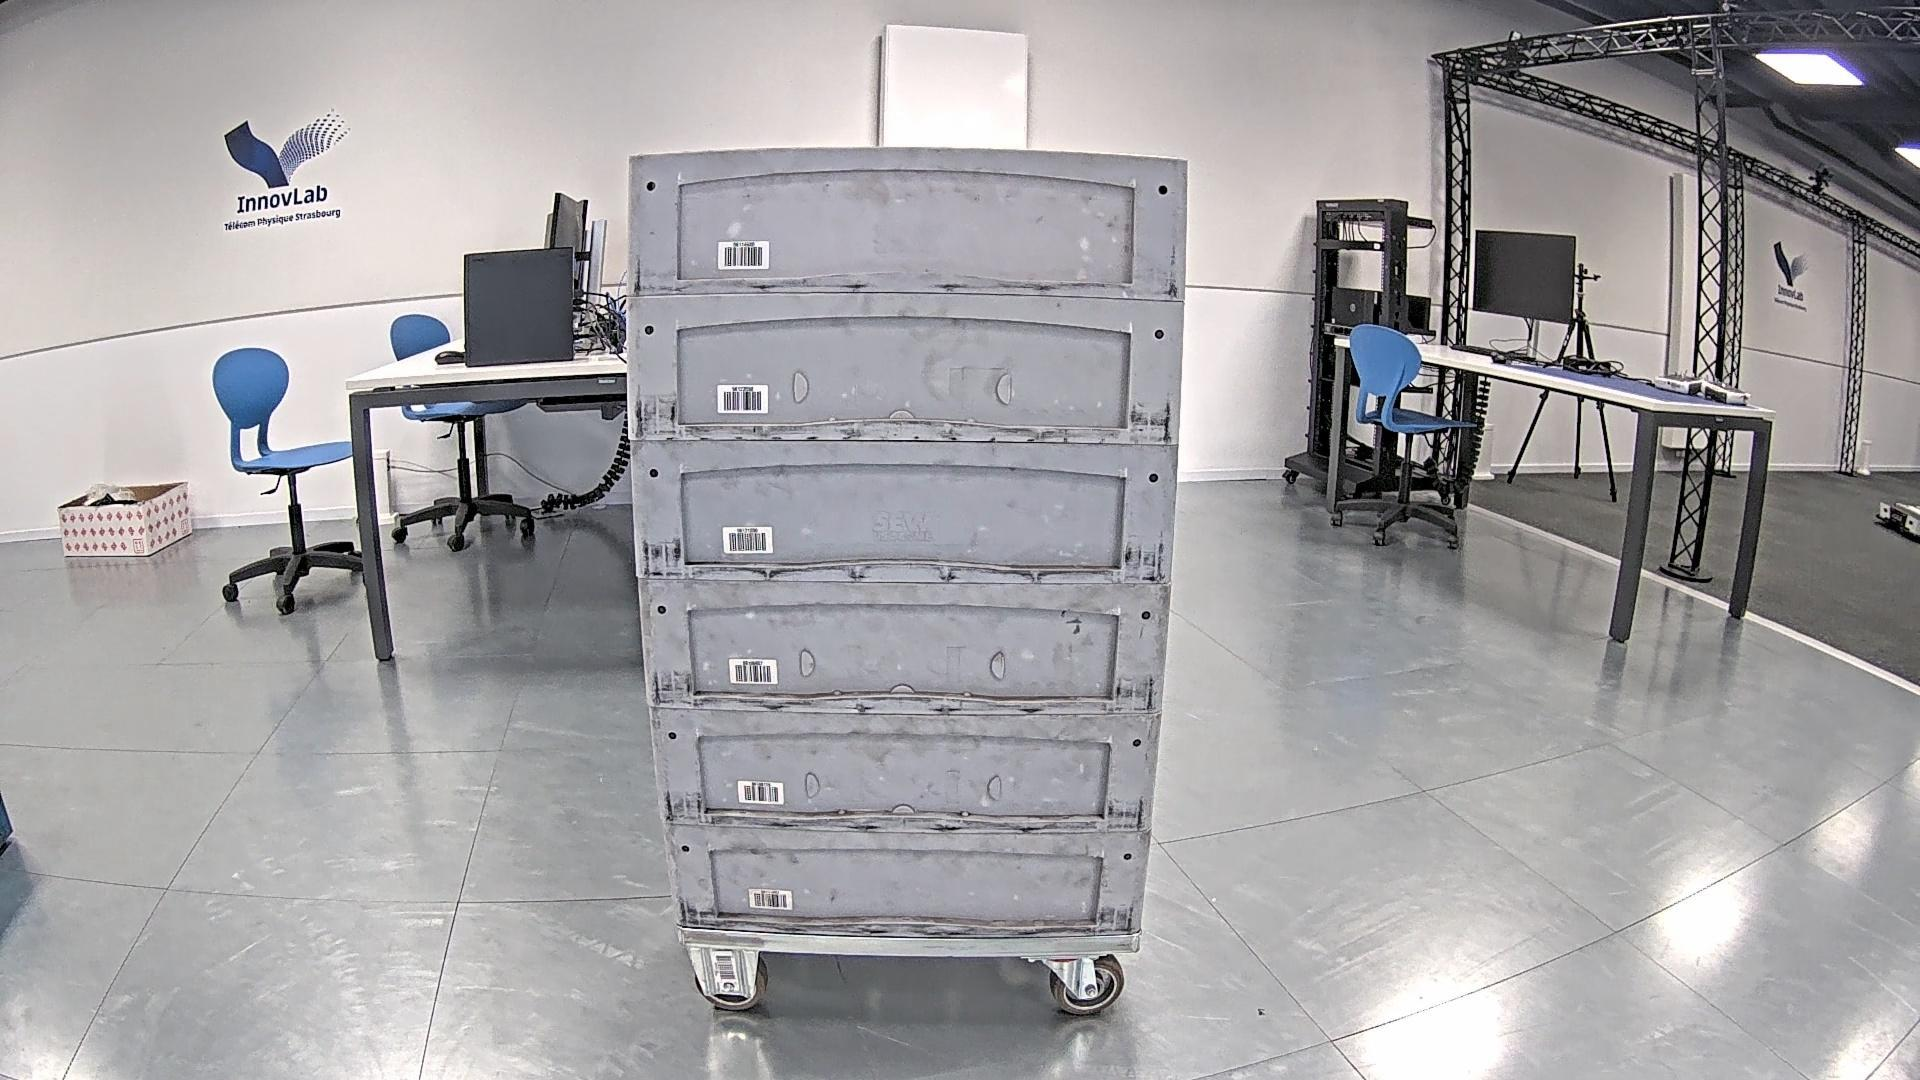Box3G: (620, 142, 1197, 934)
